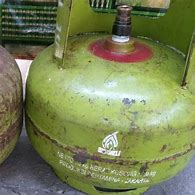gas_ijo: (24, 1, 195, 195), (1, 42, 23, 174)
